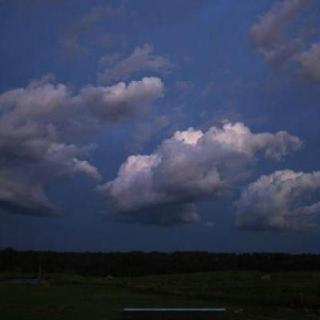Altostratus: (0, 6, 320, 244)
